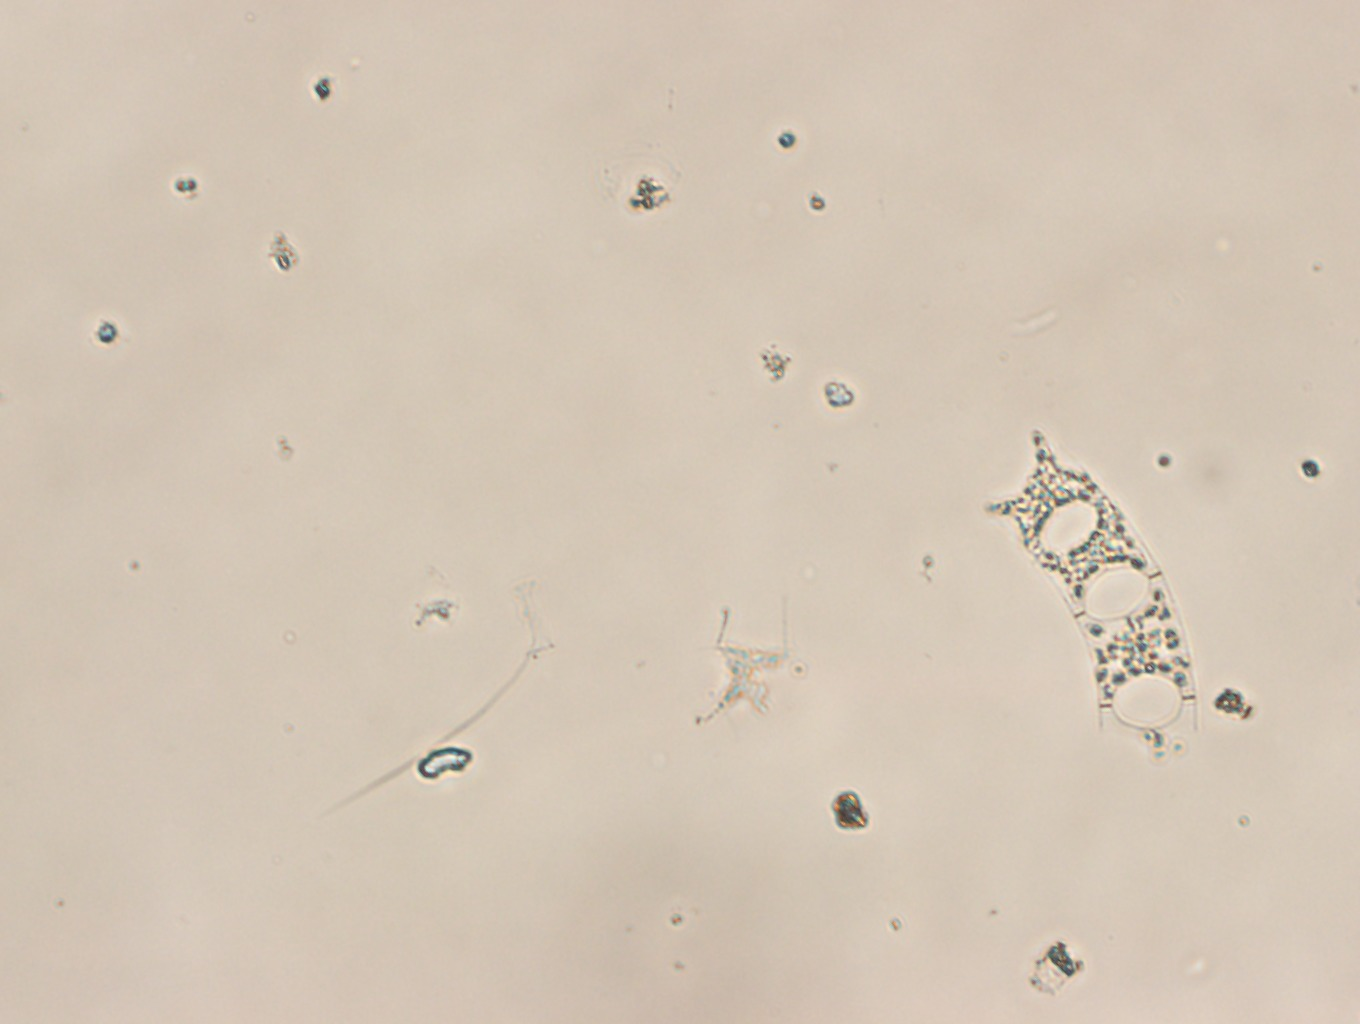eucampia: (984, 428, 1199, 771)
